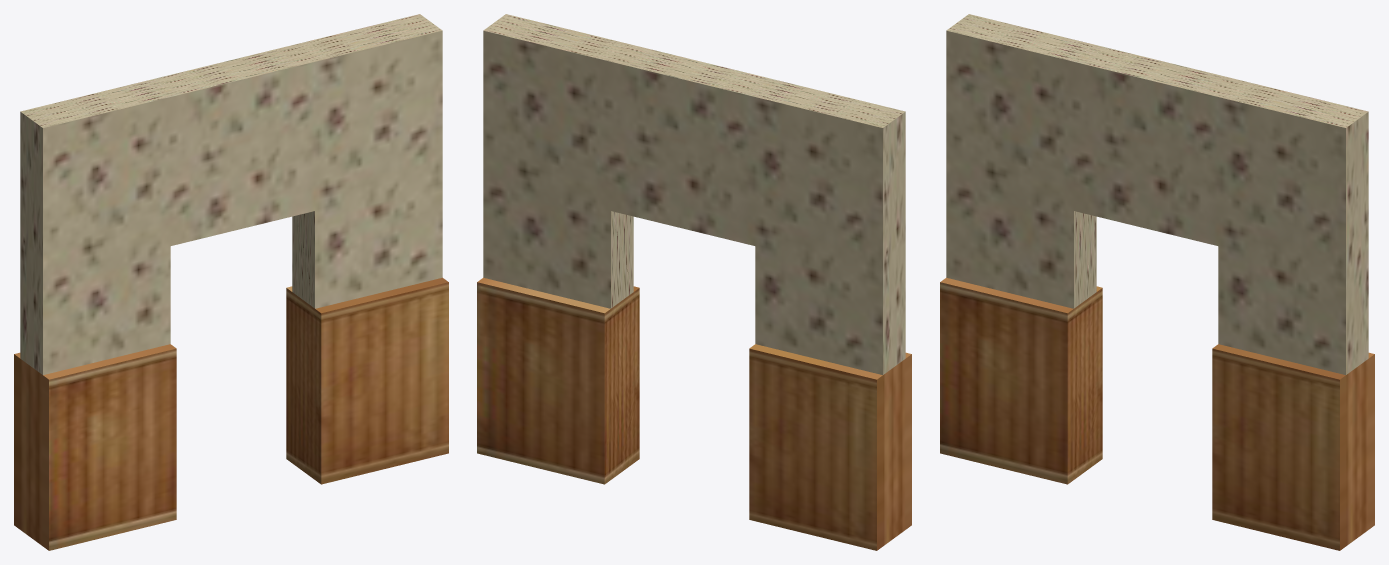
The model's file is wall with door hole.fbx.
3 views of the same model, side by side, from view 1: azimuth 30°, elevation 25°; view 2: azimuth 150°, elevation 25°; view 3: azimuth 330°, elevation 25° (orthographic).
Visible parts, largest first — view 1: Cube.012; view 2: Cube.012; view 3: Cube.012.
Part boxes in pixels (x1,y1,x2,y2): Cube.012: [14, 14, 448, 550]; Cube.012: [477, 14, 911, 550]; Cube.012: [940, 14, 1374, 550].
Bounding box in the file's own units: 383 × 383 × 57.92.
